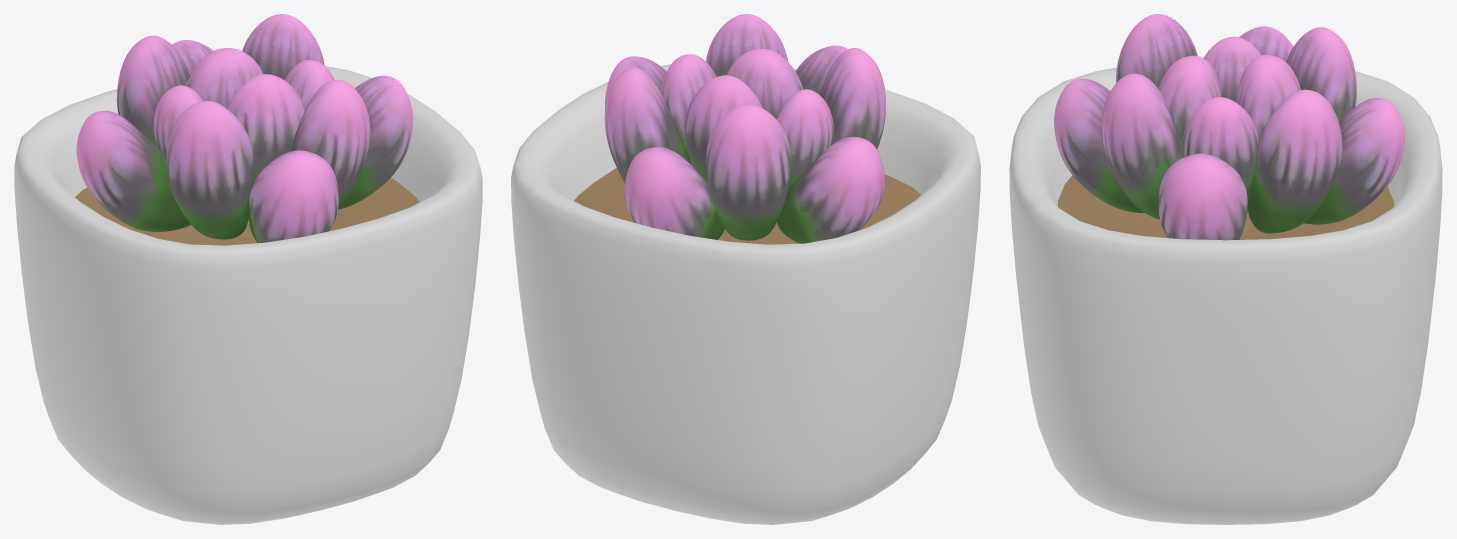
File: plant-6.5.glb
3 renders of one model, left to right at view 1: azimuth 30°, elevation 25°; view 2: azimuth 150°, elevation 25°; view 3: azimuth 270°, elevation 25°, orthographic. The views are drawn at different scales.
Parts seen in each view (by area): view 1: Pot006, haruochia; view 2: Pot006, haruochia; view 3: Pot006, haruochia.
Part boxes in pixels (bbox=[...]): Pot006: bbox=[14, 66, 482, 524]; haruochia: bbox=[76, 14, 412, 243]; Pot006: bbox=[511, 64, 980, 524]; haruochia: bbox=[604, 14, 885, 243]; Pot006: bbox=[1009, 67, 1442, 524]; haruochia: bbox=[1054, 14, 1404, 240].
Size of the model in its own units: 0.5765 by 0.5891 by 0.5514.
3 materials, 1 textured.
